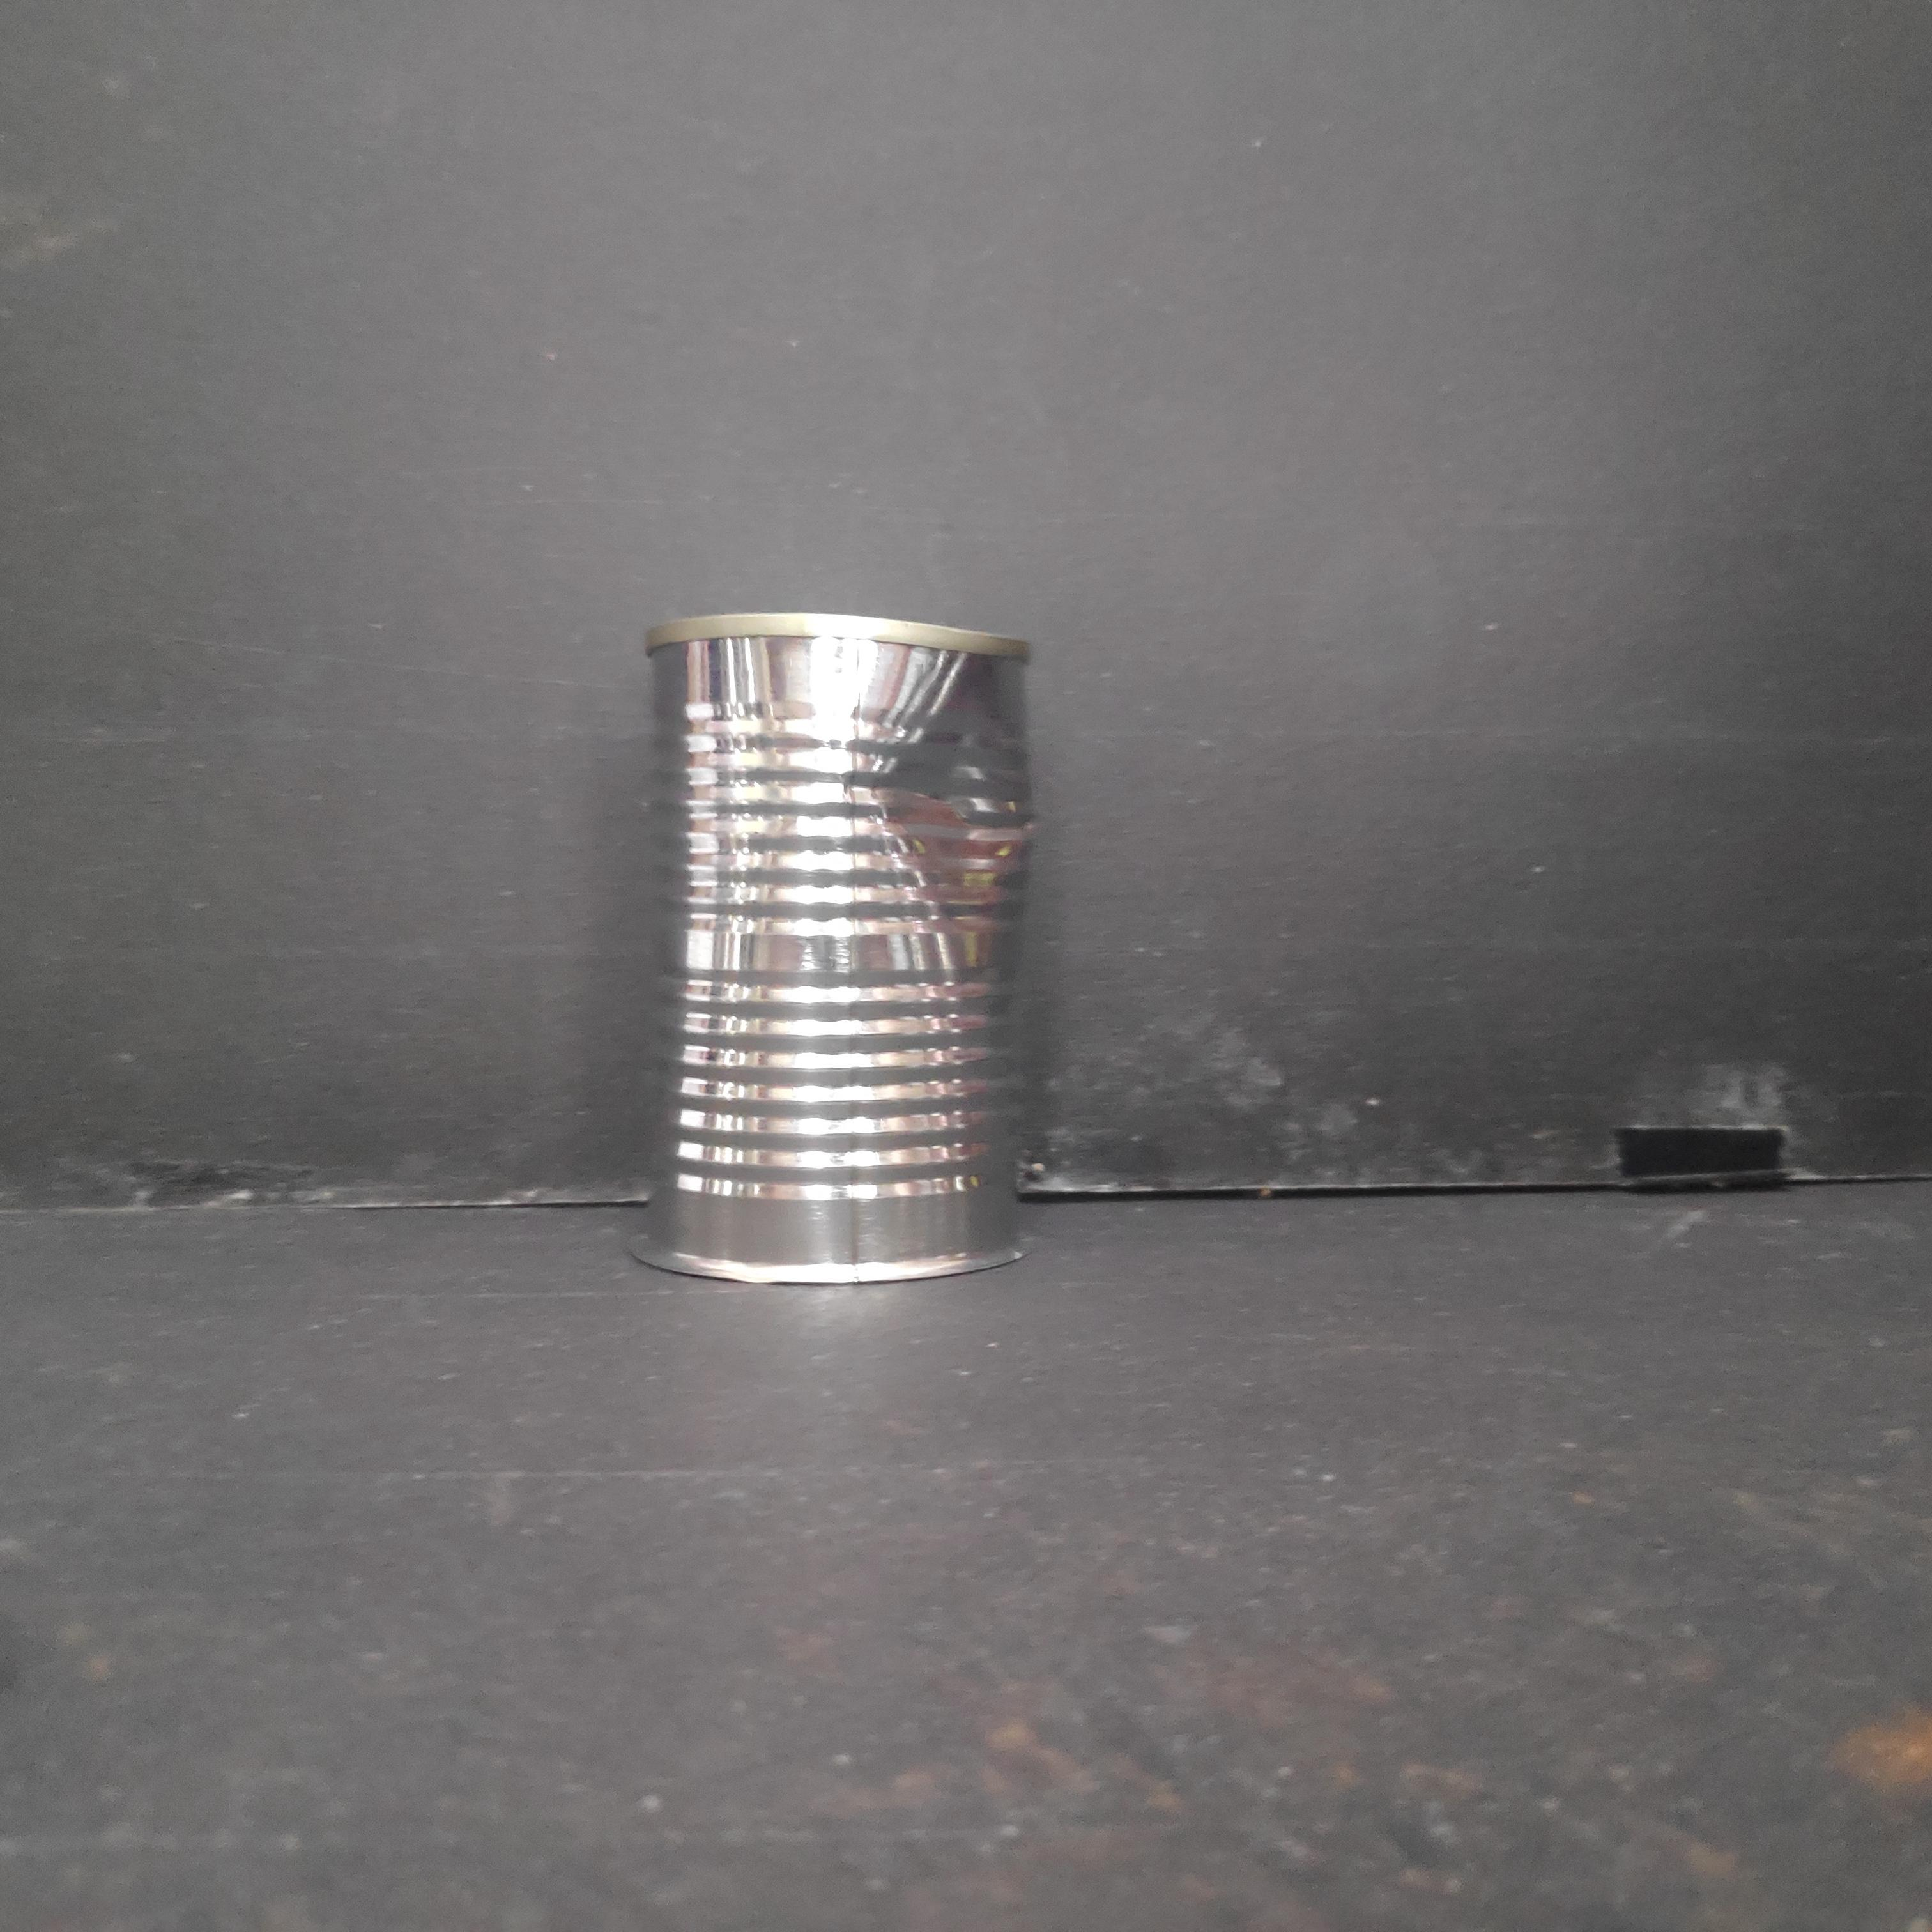Minor Defect: (625, 605, 1056, 1297)
